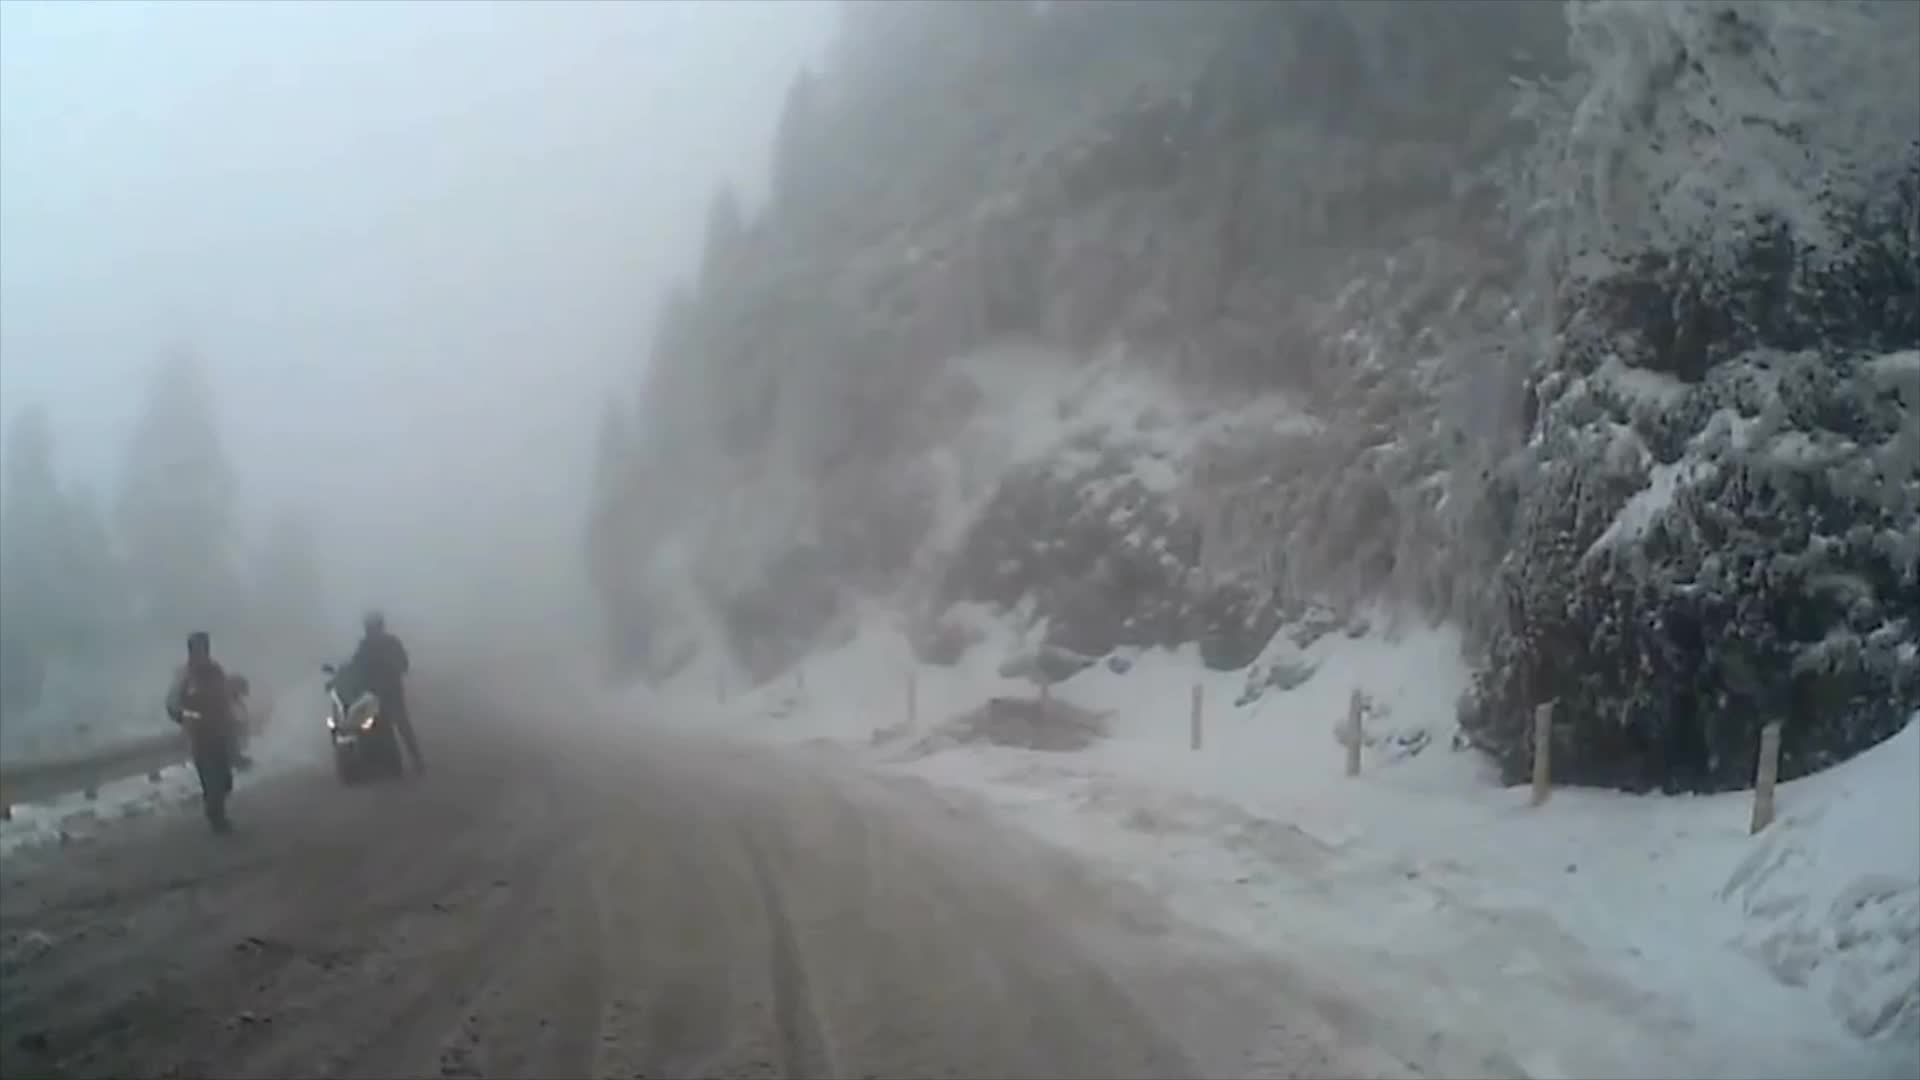pedestrian: (167, 636, 256, 841), (339, 611, 430, 791)
